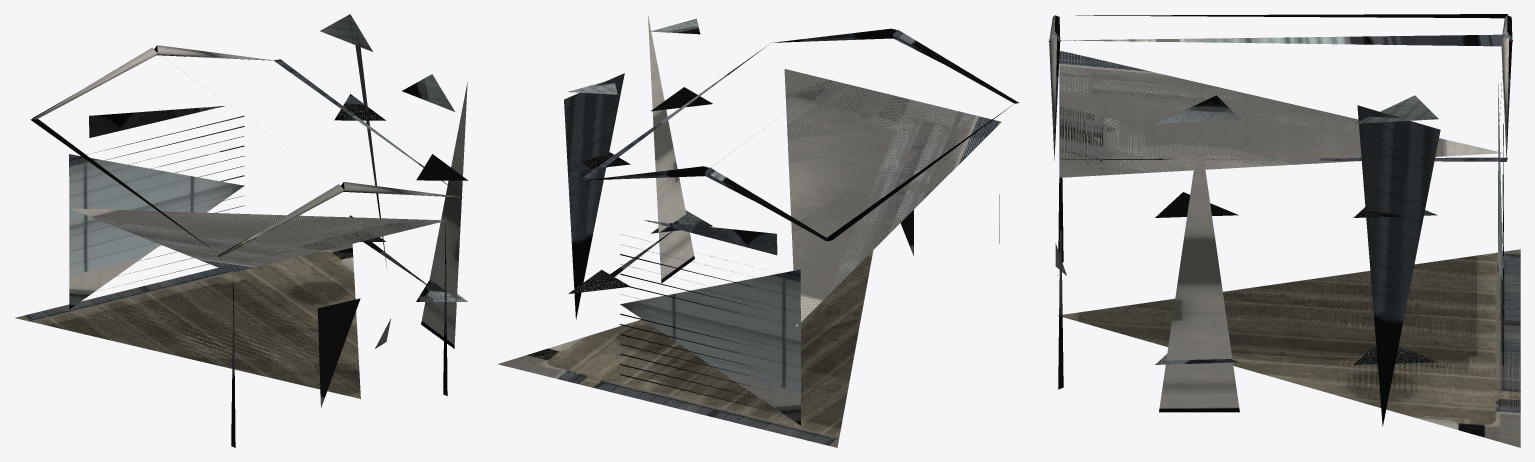
The model's file is factory_004.lod2.obj.
3 views of the same model, side by side, from view 1: azimuth 30°, elevation 25°; view 2: azimuth 150°, elevation 25°; view 3: azimuth 270°, elevation 25° (orthographic). The views are drawn at different scales.
Visible parts, largest first — view 1: factory_004; view 2: factory_004; view 3: factory_004.
Part boxes in pixels (<box>): factory_004: <box>15,14,467,447</box>; factory_004: <box>498,15,1018,447</box>; factory_004: <box>1048,14,1520,447</box>.
Bounding box in the file's own units: 6.5 × 4.7 × 6.5.
Materials: 1 (1 with a texture image).
